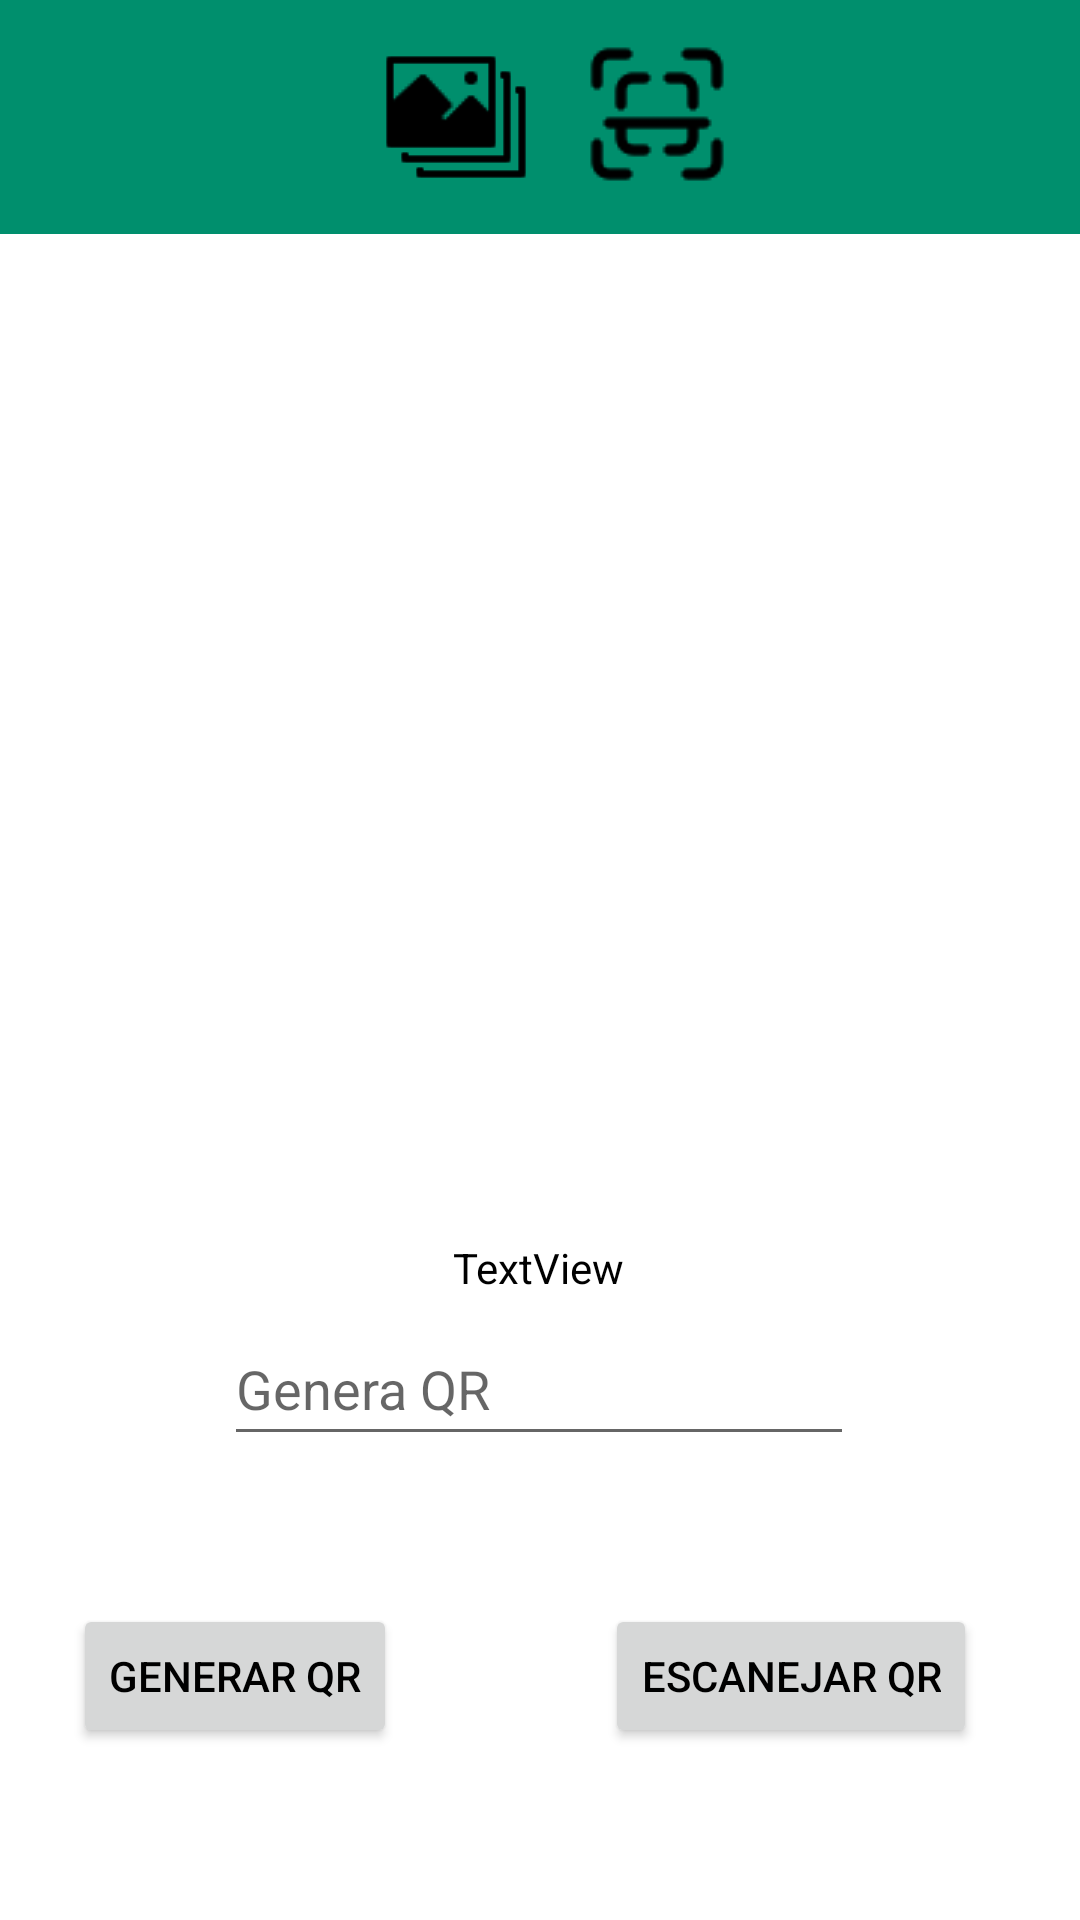

Where to tap for icons on this 1080px×1920px app screen, as (x,y):
galer de im genes: (456,117)
